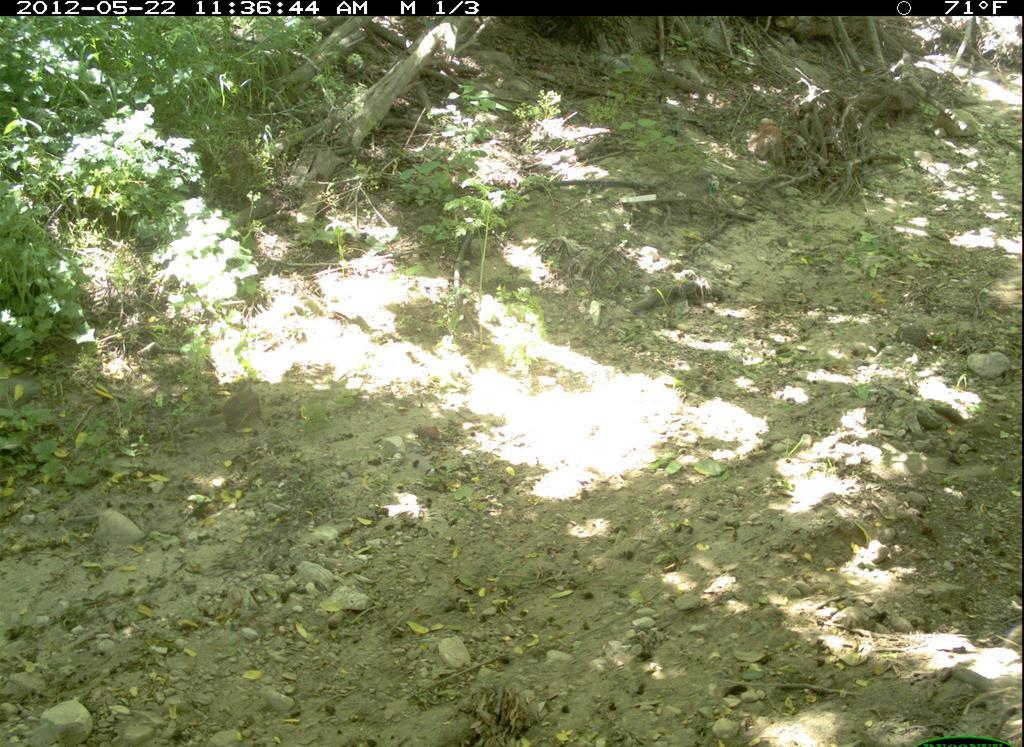squirrel: (169, 370, 276, 445)
